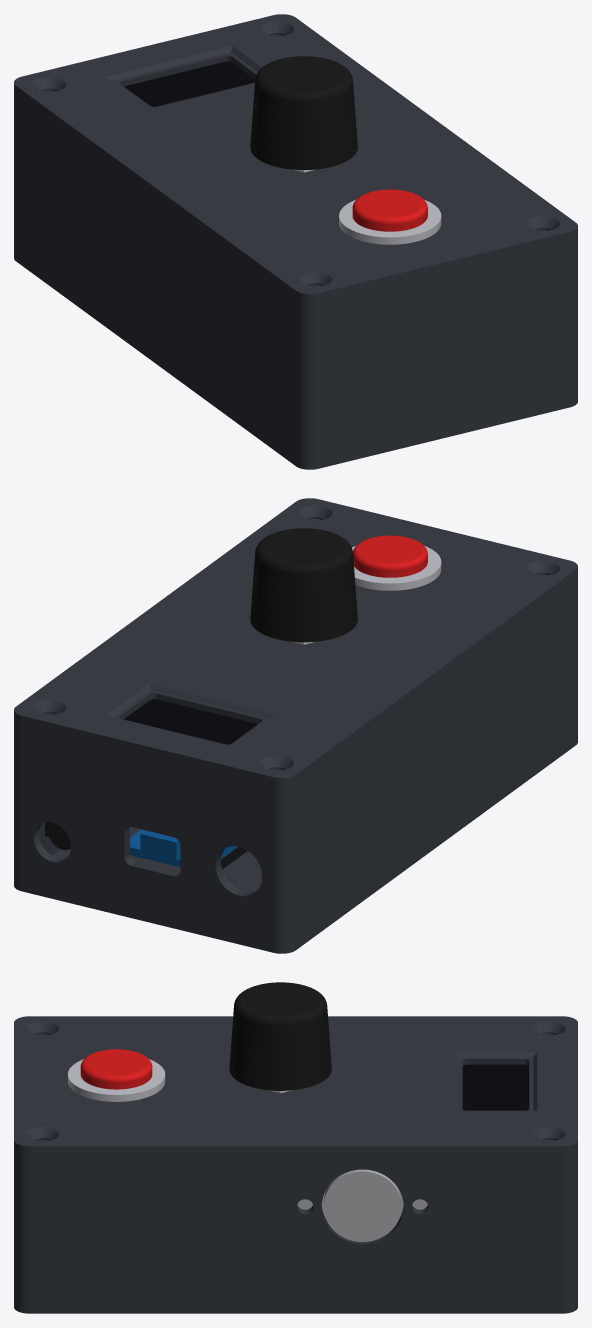
File: enclosure_parts.glb
The picture shows the model from 3 angles, top to bottom: view 1: azimuth 30°, elevation 25°; view 2: azimuth 150°, elevation 25°; view 3: azimuth 270°, elevation 25°; orthographic projection. The views are drawn at different scales.
Parts seen in each view (by area): view 1: tray, lid, knob, oled_glass, tap_cap, tap_body; view 2: tray, lid, knob, oled_glass, tap_cap, nano, tap_body; view 3: tray, lid, knob, midi_din, oled_glass, tap_cap, tap_body.
Boxes of the visible parts, <box> form: tray: <box>14,35,577,469</box>; lid: <box>14,14,577,303</box>; knob: <box>250,56,357,169</box>; oled_glass: <box>124,61,255,106</box>; tap_cap: <box>352,189,427,231</box>; tap_body: <box>339,200,441,244</box>; tray: <box>14,519,577,953</box>; lid: <box>14,498,577,787</box>; knob: <box>250,528,357,642</box>; oled_glass: <box>124,699,257,744</box>; tap_cap: <box>353,535,427,577</box>; nano: <box>130,829,237,867</box>; tap_body: <box>352,546,441,590</box>; tray: <box>14,1034,577,1313</box>; lid: <box>14,1016,577,1155</box>; knob: <box>229,982,331,1090</box>; midi_din: <box>297,1169,427,1241</box>; oled_glass: <box>462,1064,529,1110</box>; tap_cap: <box>80,1049,152,1089</box>; tap_body: <box>68,1059,165,1101</box>.
Bounding box in the file's own units: 60 × 53.6 × 110.
